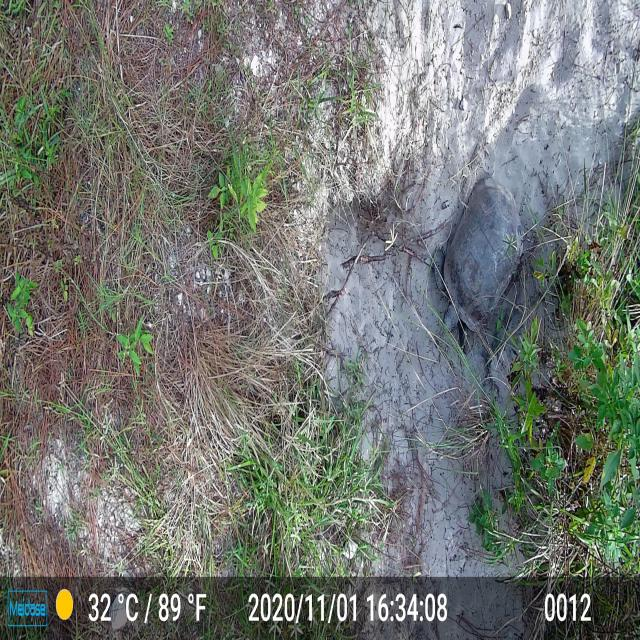tortoise: (434, 172, 532, 360)
